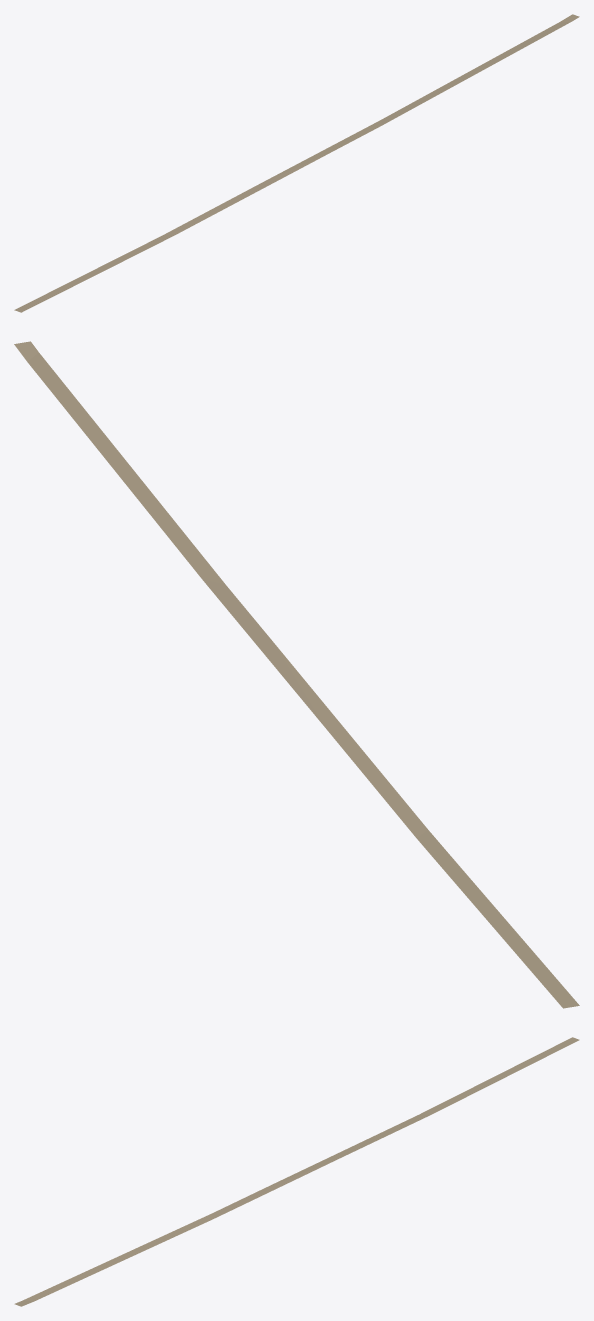
File: farm_25_15_track.glb
The picture shows the model from 3 angles, top to bottom: view 1: azimuth 90°, elevation 25°; view 2: azimuth 150°, elevation 25°; view 3: azimuth 270°, elevation 25°; orthographic projection. The views are drawn at different scales.
Parts seen in each view (by area): view 1: geometry_0; view 2: geometry_0; view 3: geometry_0.
Part boxes in pixels (bbox=[...]): geometry_0: bbox=[14, 14, 579, 312]; geometry_0: bbox=[14, 341, 579, 1008]; geometry_0: bbox=[14, 1037, 579, 1306].
Bounding box in the file's own units: 228 × 5.5 × 192.
